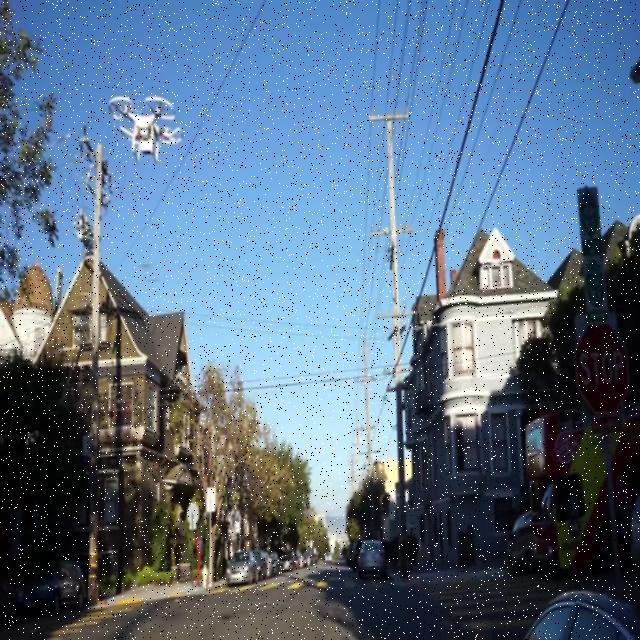UAV: (108, 95, 184, 165)
